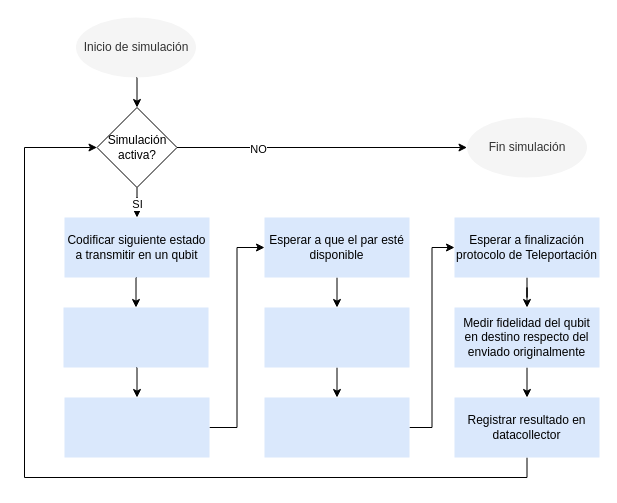
Some shapes in this 617 by 503 pixel diagram are drawn without their labels. Each missing label, with the box of its shape:
Almacenar qubit en memoria: (63, 307, 208, 367)
Enviar correcciones al nodo final: (264, 397, 409, 457)
Realizar mediciones en base de Bell: (264, 307, 409, 367)
Solicitar un par entrelazado al RouteProtocol del path: (64, 397, 209, 457)
